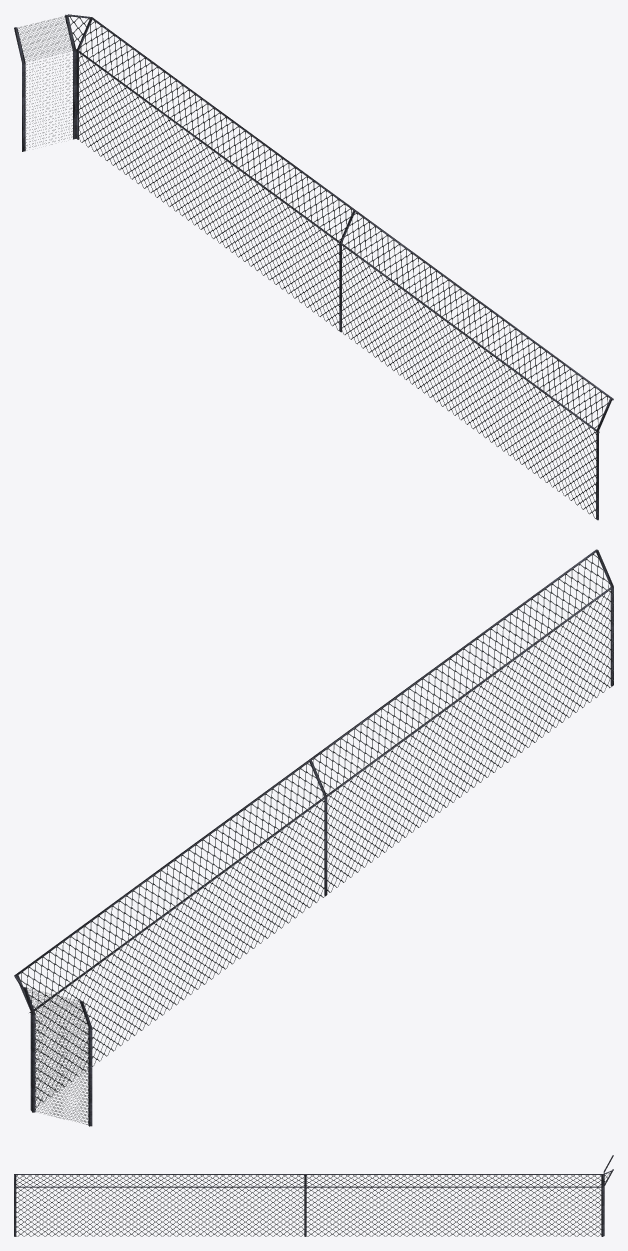
The model's file is M10_Z1_ChainFence05.glb.
3 renders of one model, top to bottom at view 1: azimuth 30°, elevation 25°; view 2: azimuth 150°, elevation 25°; view 3: azimuth 270°, elevation 25°, orthographic. The views are drawn at different scales.
Parts seen in each view (by area): view 1: M10_Z1_CHAINFENCE05; view 2: M10_Z1_CHAINFENCE05; view 3: M10_Z1_CHAINFENCE05.
Boxes of the visible parts, x1,y1,x2,y2 form: M10_Z1_CHAINFENCE05: (14,14,613,520); M10_Z1_CHAINFENCE05: (14,549,613,1126); M10_Z1_CHAINFENCE05: (14,1155,613,1236).
Bounding box in the file's own units: 0.623 × 1 × 8.17.
2 materials, 2 textured.
